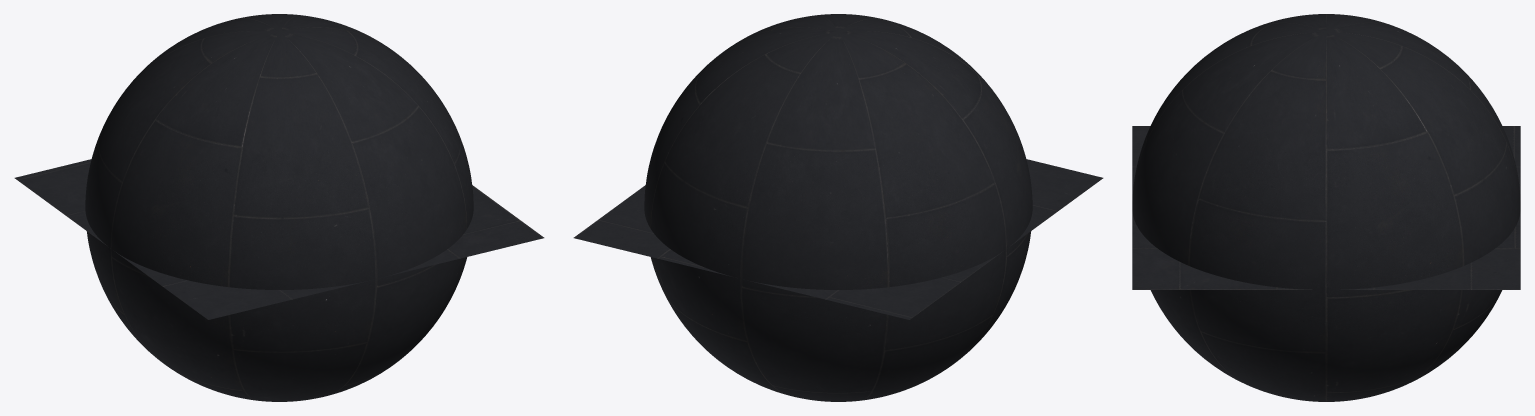
Rendered from rubber_tiles_2k.fbx.
The picture shows the model from 3 angles, left to right: view 1: azimuth 30°, elevation 25°; view 2: azimuth 150°, elevation 25°; view 3: azimuth 270°, elevation 25°; orthographic projection.
Visible parts, largest first — view 1: Sphere, Plane; view 2: Sphere, Plane; view 3: Sphere, Plane.
Boxes of the visible parts, left/top/right/bottom form: Sphere: left=85, top=14, right=473, bottom=401; Plane: left=14, top=159, right=544, bottom=319; Sphere: left=644, top=14, right=1032, bottom=401; Plane: left=573, top=159, right=1103, bottom=319; Sphere: left=1132, top=14, right=1520, bottom=401; Plane: left=1132, top=126, right=1520, bottom=289.
Size of the model in its own units: 200 by 200 by 200.
